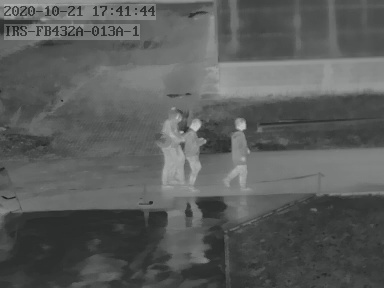person: (157, 111, 185, 186), (182, 114, 206, 192), (227, 117, 250, 192)
